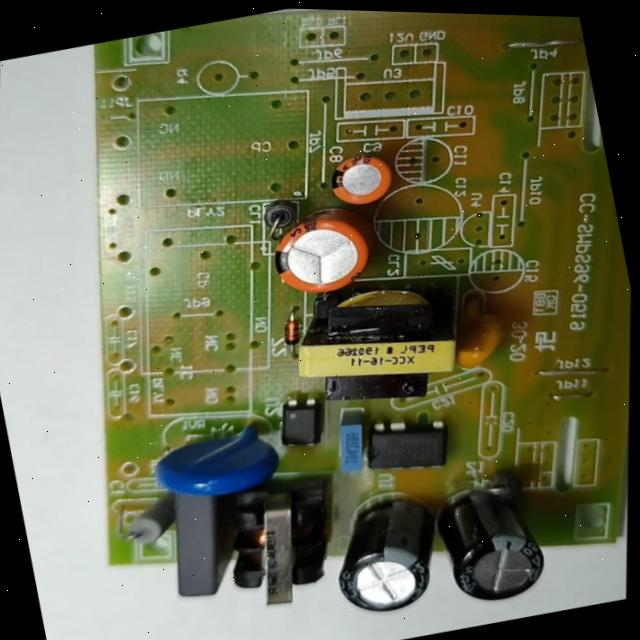Cap1: (252, 188, 388, 313)
Cap2: (317, 139, 407, 219)
Cap3: (310, 476, 468, 639)
Cap4: (414, 460, 575, 625)
MOSFET: (351, 402, 463, 489)
Mov: (133, 395, 299, 525)
Resistor: (111, 493, 181, 554)
Transformer: (266, 257, 484, 435), (198, 457, 360, 626)
